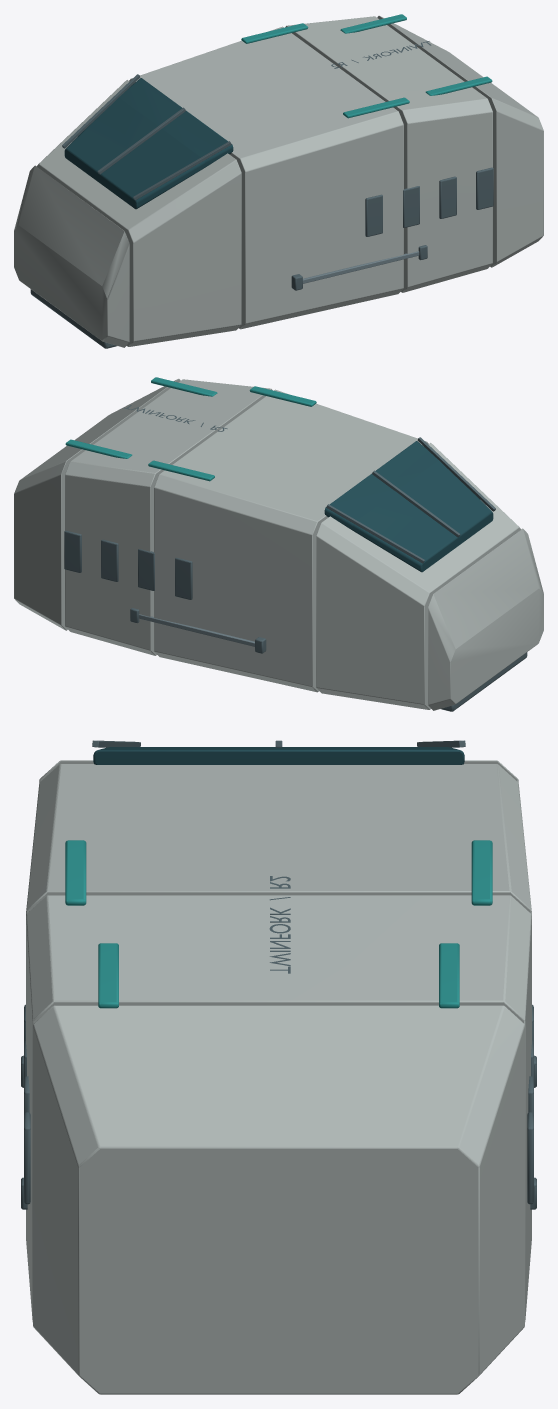
Rendered from SM_Mech_CabinArmor.fbx.
3 renders of one model, top to bottom at view 1: azimuth 30°, elevation 25°; view 2: azimuth 150°, elevation 25°; view 3: azimuth 270°, elevation 25°, orthographic. The views are drawn at different scales.
Visible parts, largest first — view 1: SM_Mech_CabinArmor; view 2: SM_Mech_CabinArmor; view 3: SM_Mech_CabinArmor.
Part boxes in pixels (<box>): SM_Mech_CabinArmor: <box>14,14,543,348</box>; SM_Mech_CabinArmor: <box>14,377,543,711</box>; SM_Mech_CabinArmor: <box>21,740,536,1394</box>.
Bounding box in the file's own units: 764 × 394 × 321.
